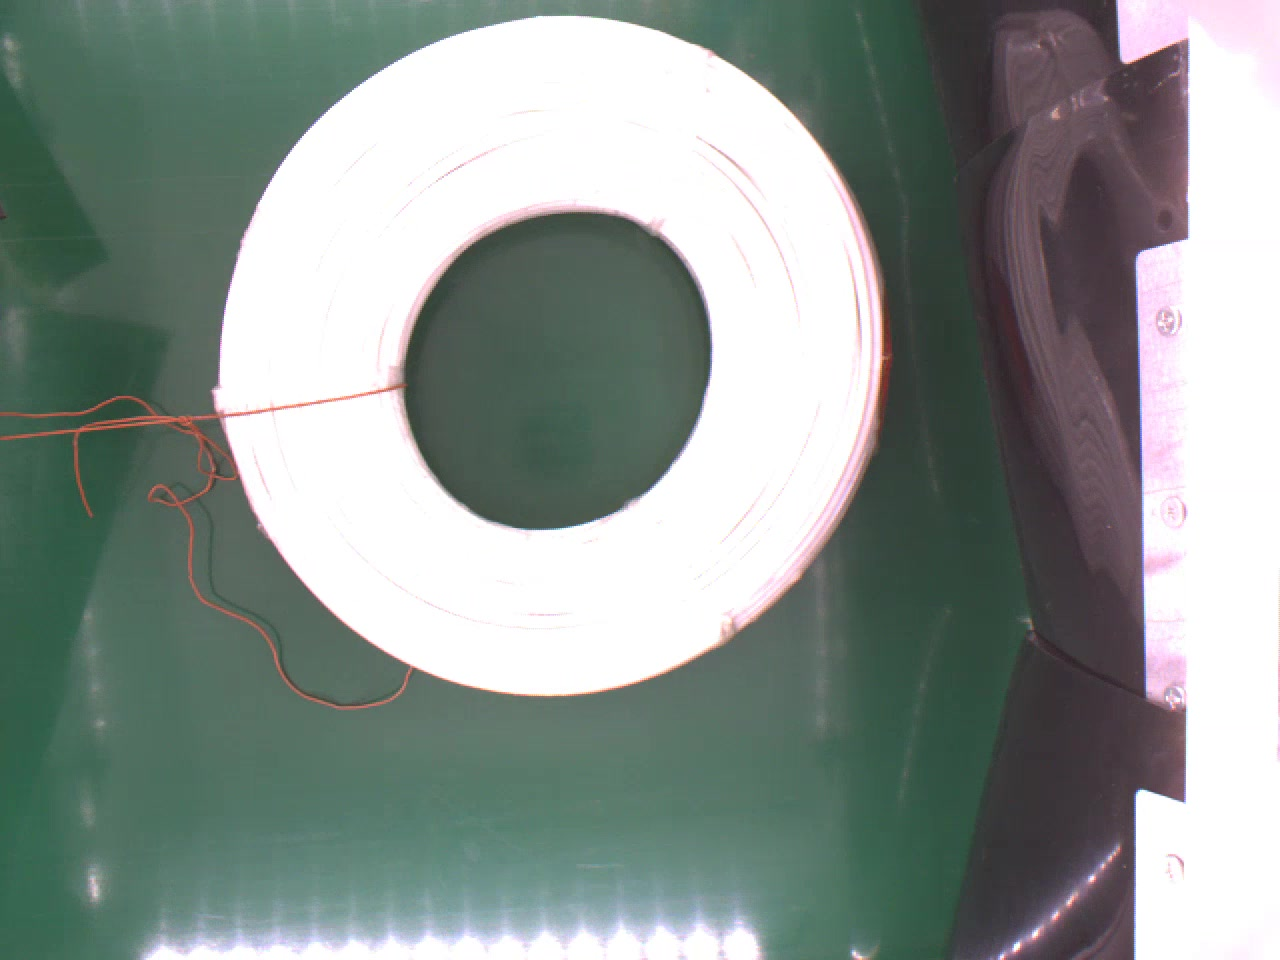white: (213, 9, 893, 701)
